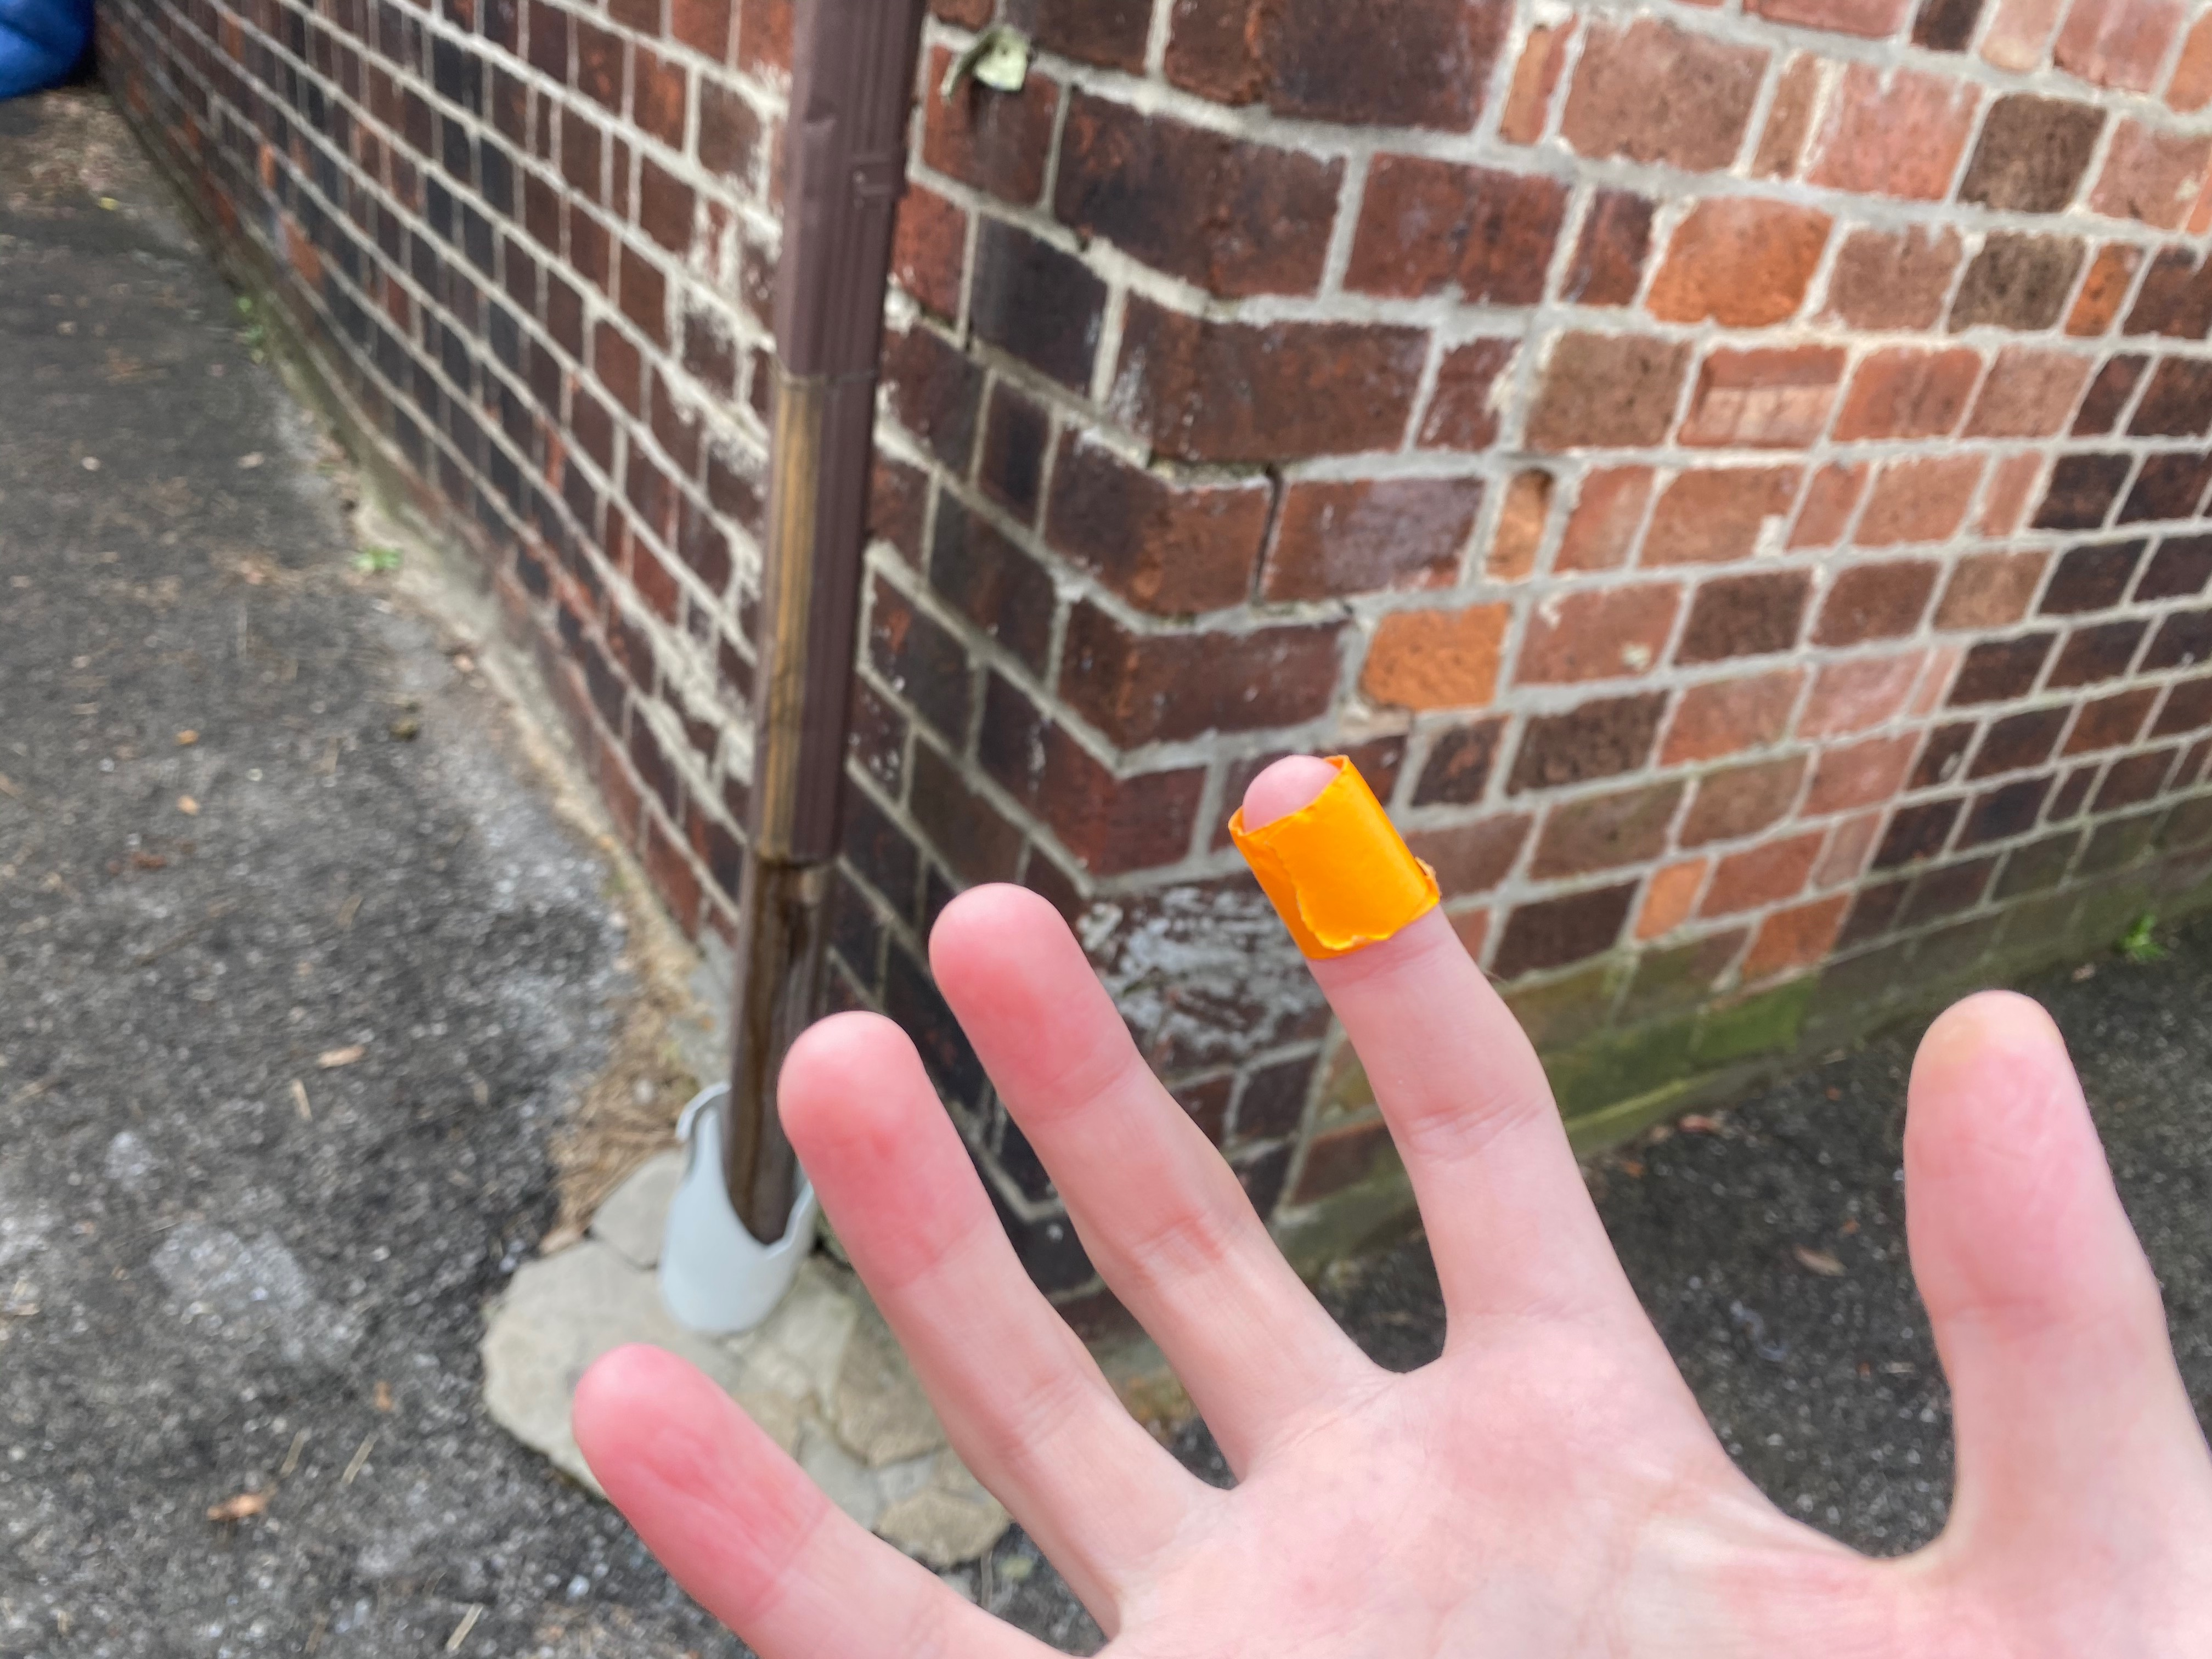fingertip: (1211, 728, 1428, 992)
